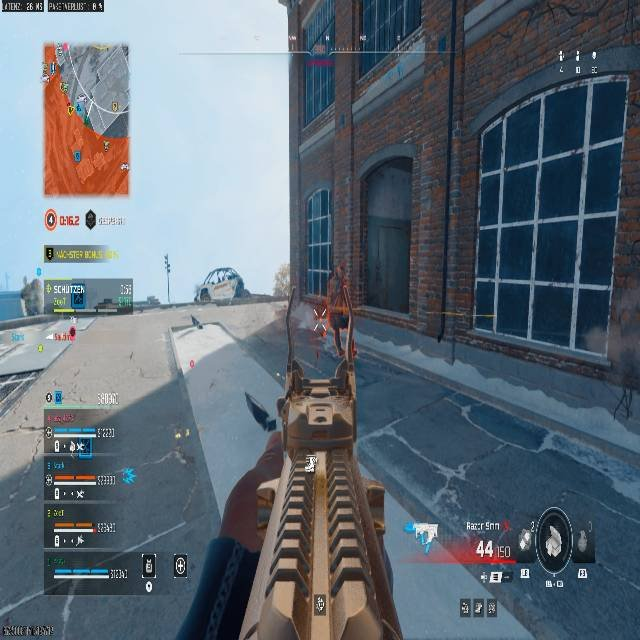player: (316, 262, 356, 386)
